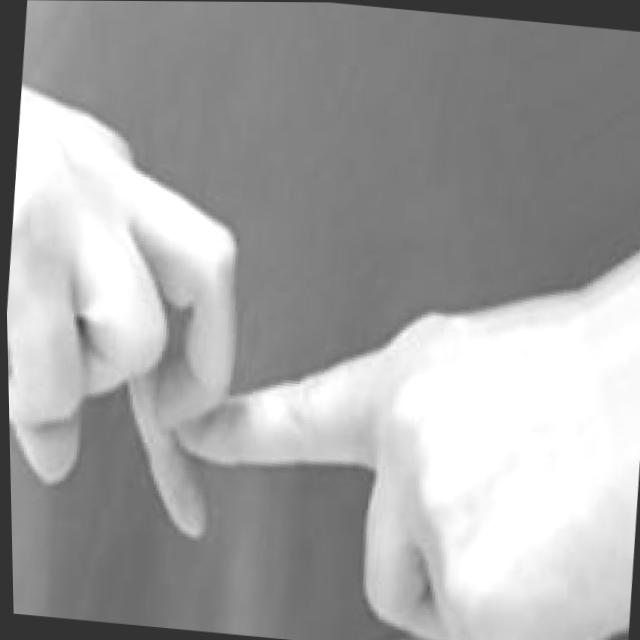R: (2, 80, 640, 640)
